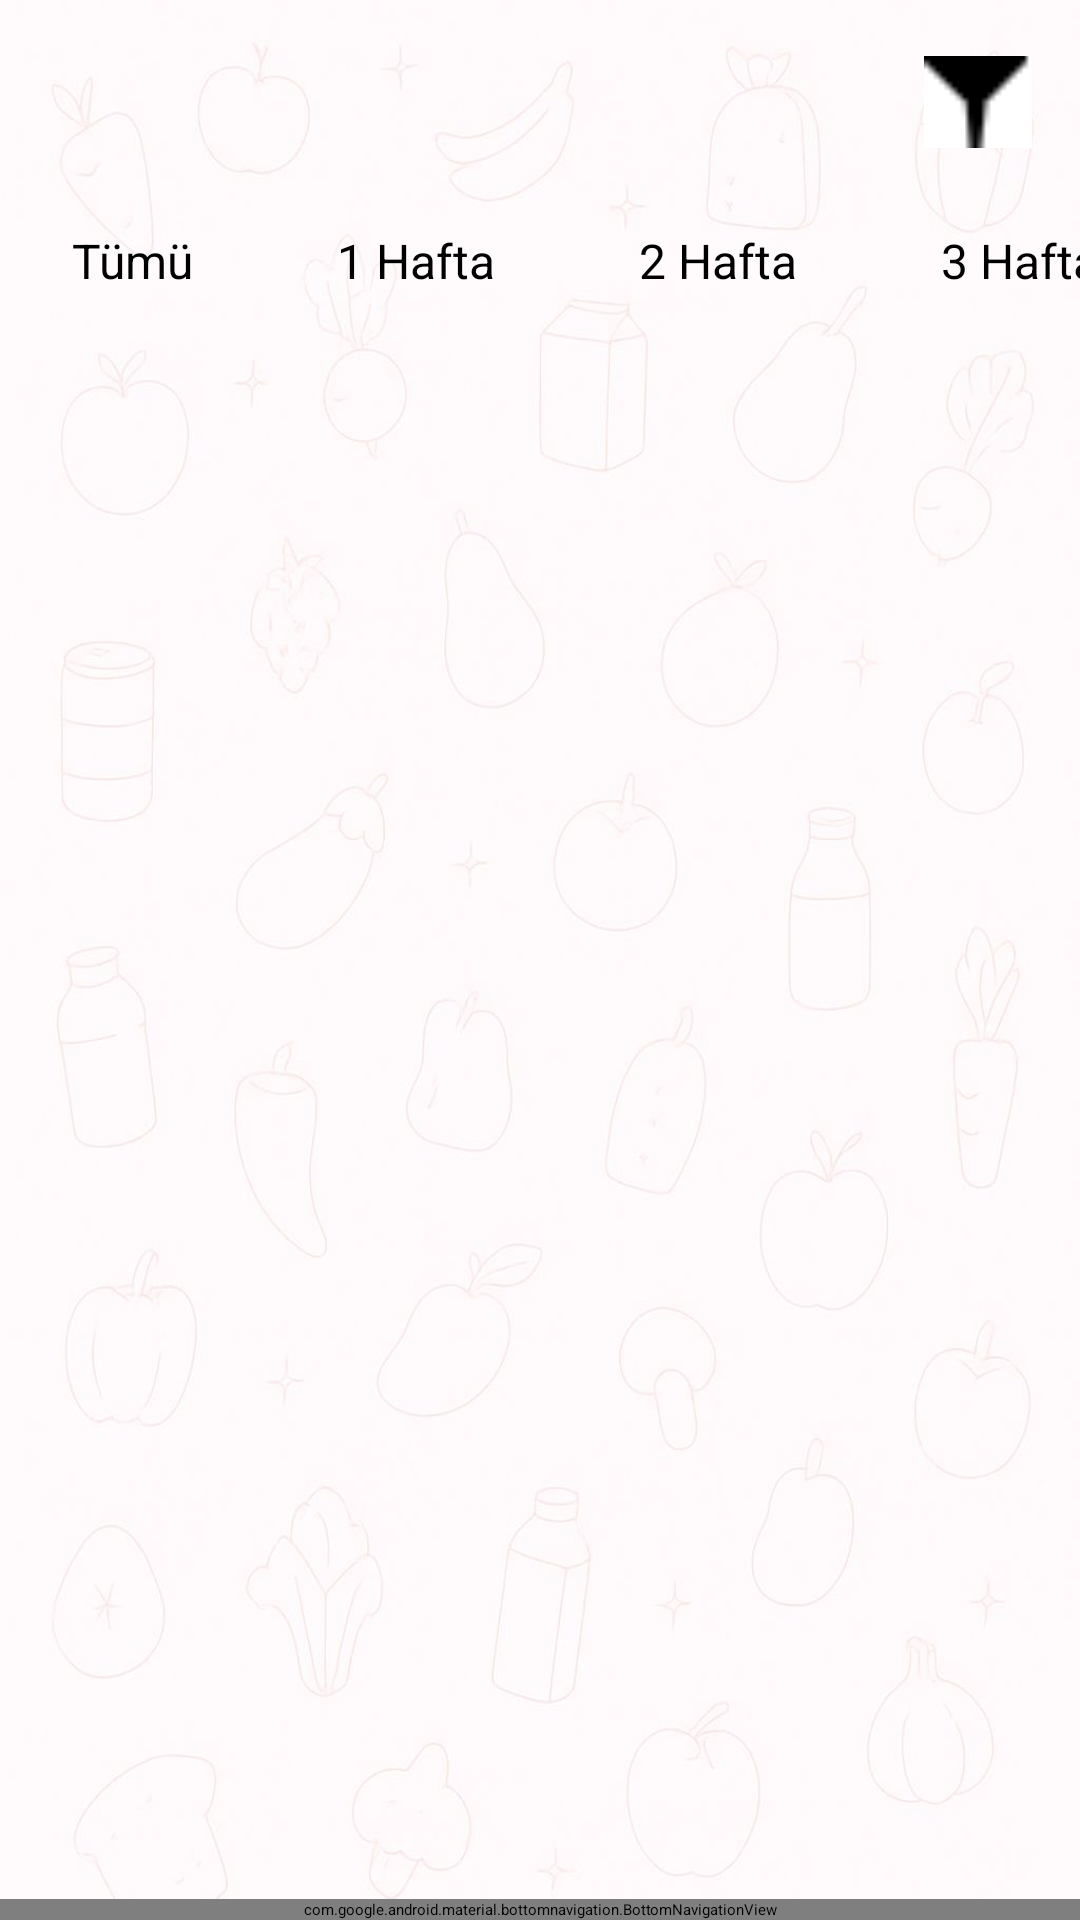

Icons on this 1080×1920 Android screen, each with the point to tap as point (x, y):
Filtrele: point (976, 102)
